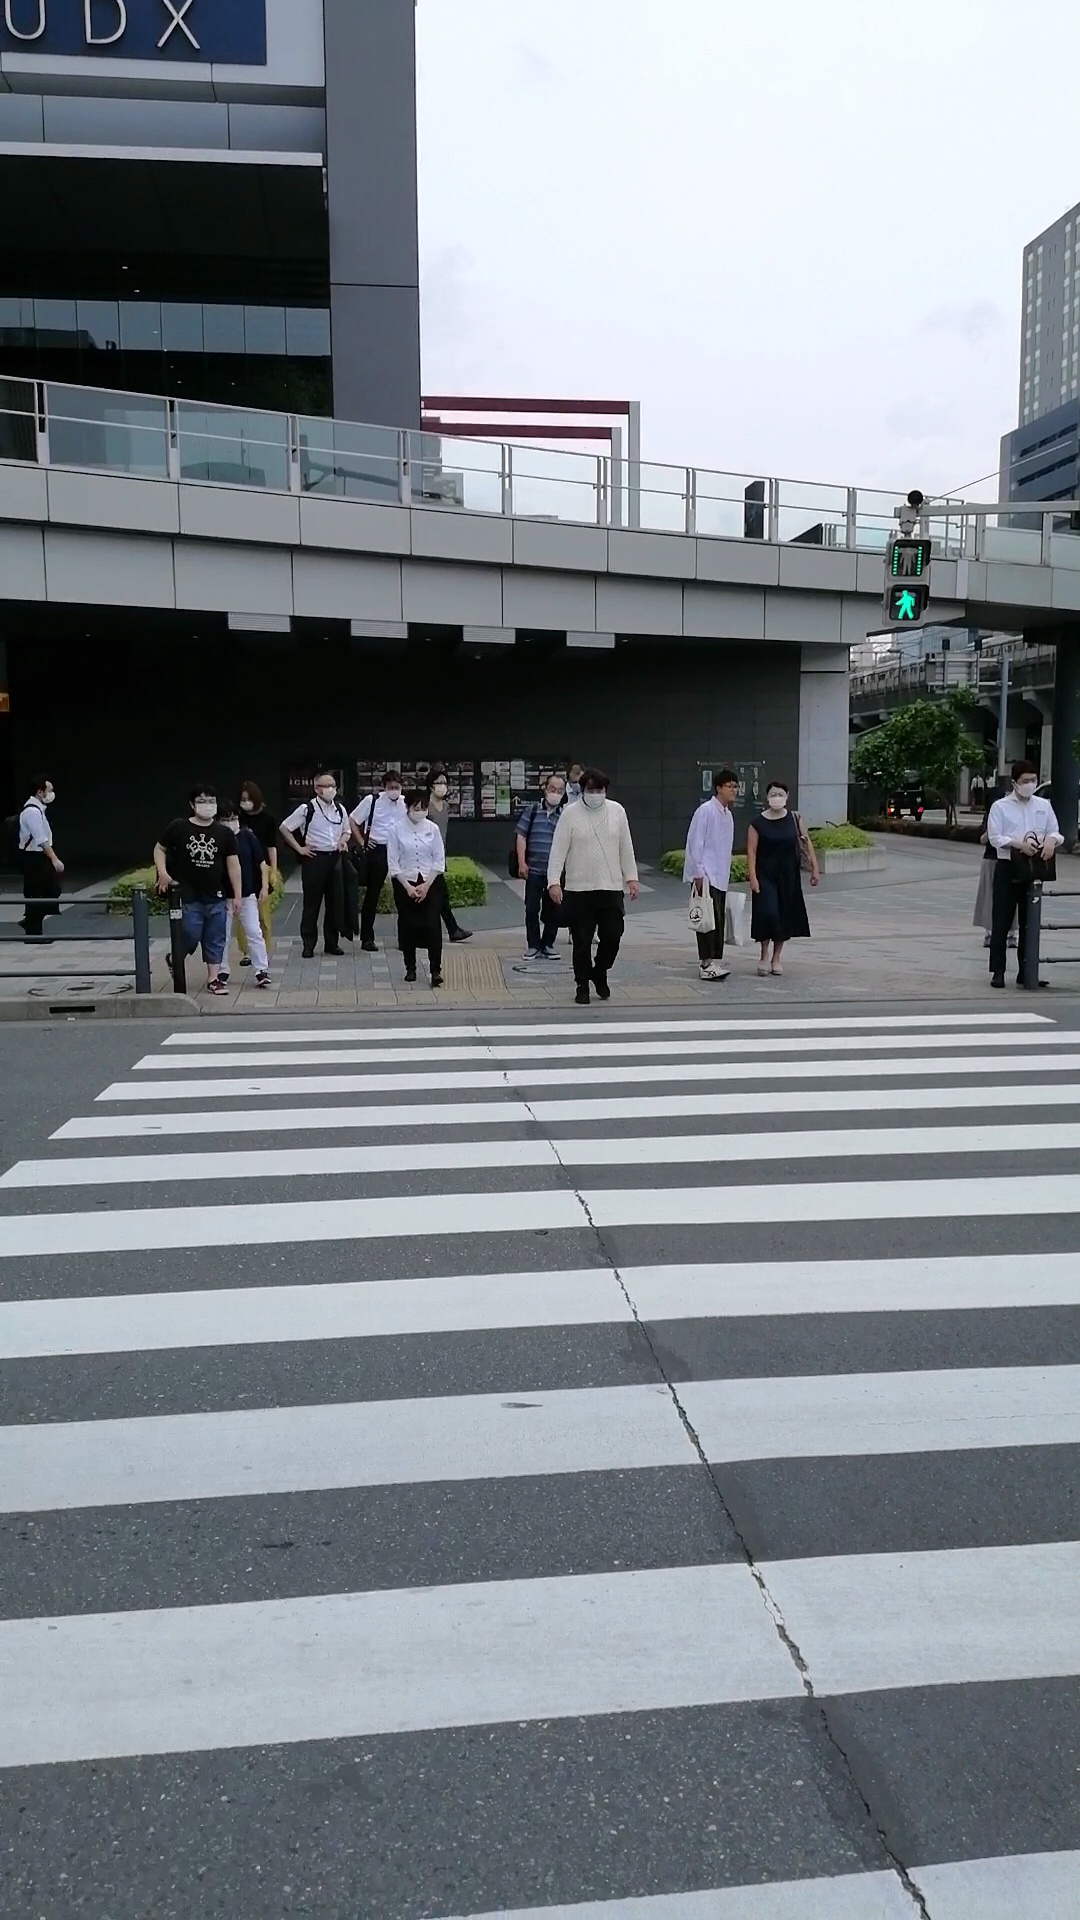green: (884, 537, 931, 626)
